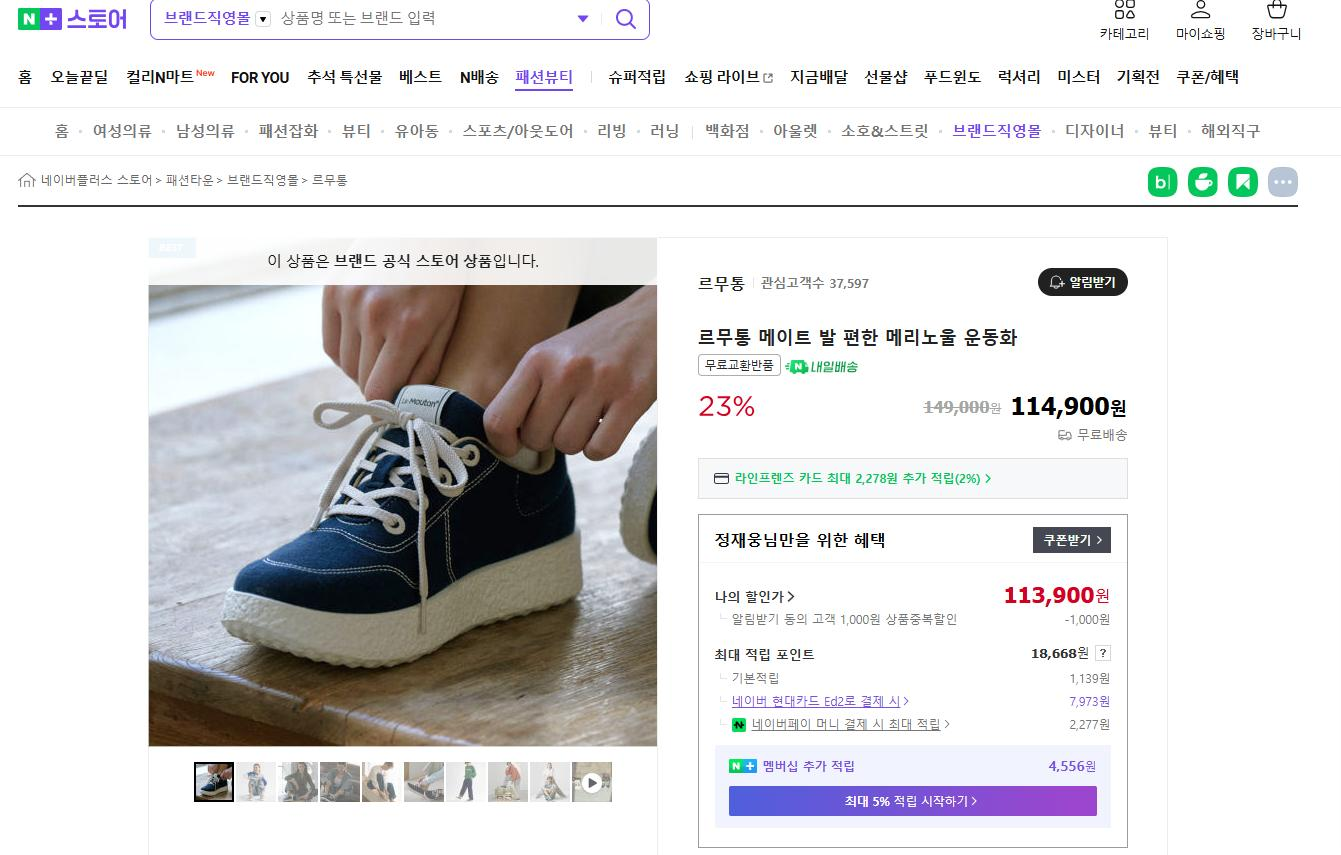button: (727, 789, 1109, 819), (727, 710, 950, 733), (459, 119, 583, 149), (1243, 0, 1311, 46), (117, 59, 213, 90), (1039, 266, 1121, 301), (727, 694, 914, 709), (683, 63, 786, 90), (256, 120, 346, 150), (846, 117, 926, 149), (771, 117, 847, 150), (1031, 526, 1114, 556), (964, 114, 1056, 141), (1173, 7, 1231, 43), (1101, 3, 1151, 44), (363, 760, 404, 807), (399, 760, 440, 807), (1200, 121, 1266, 150), (574, 763, 617, 806), (237, 760, 279, 804), (444, 759, 486, 803), (491, 763, 527, 814), (197, 759, 233, 809), (320, 763, 361, 806), (51, 66, 119, 90), (533, 761, 571, 803), (103, 117, 164, 143), (503, 76, 569, 99), (997, 67, 1060, 91), (304, 70, 390, 87), (1074, 127, 1137, 150), (381, 119, 441, 143), (794, 63, 849, 87), (281, 770, 317, 806), (1171, 67, 1239, 86), (709, 123, 761, 147), (859, 67, 914, 89), (613, 66, 669, 87), (930, 67, 981, 90), (1146, 164, 1180, 196), (1057, 69, 1110, 89), (1270, 169, 1304, 200), (226, 71, 291, 87), (600, 120, 639, 146), (183, 123, 237, 141), (647, 123, 686, 147), (1123, 69, 1166, 89), (1187, 171, 1221, 196), (1150, 123, 1191, 143), (9, 63, 39, 87), (347, 121, 383, 141), (453, 73, 497, 89), (400, 70, 441, 87), (1226, 171, 1257, 193), (1096, 640, 1119, 664), (49, 119, 77, 136)
input_field: (150, 0, 650, 40)
